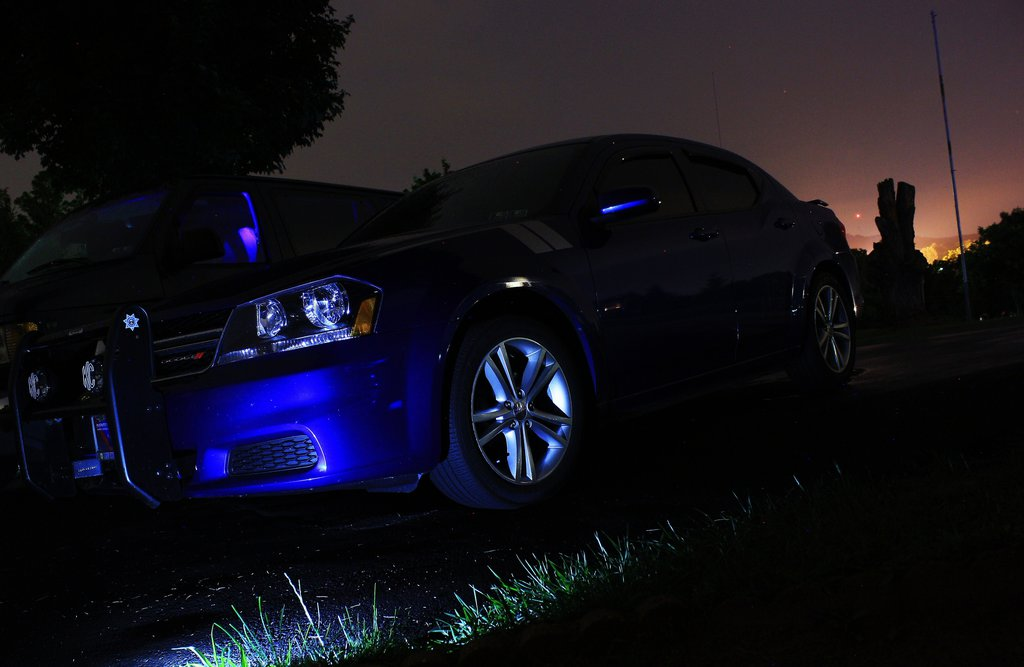car: (9, 128, 881, 535)
